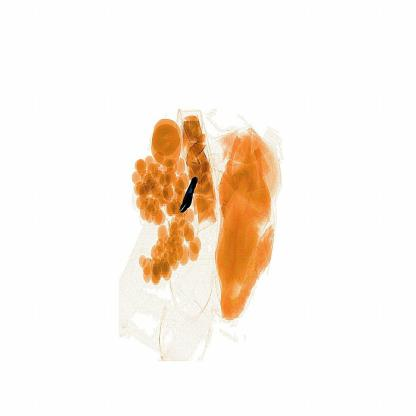knife: (173, 165, 210, 222)
